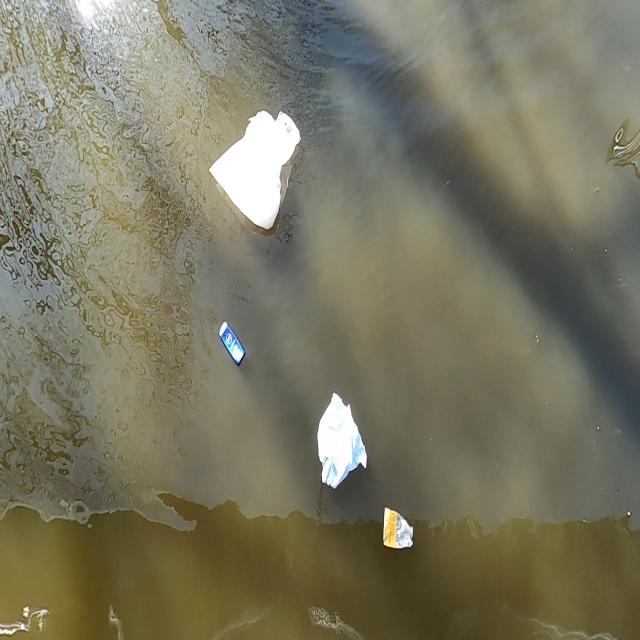Autre plastique: (218, 318, 246, 374)
